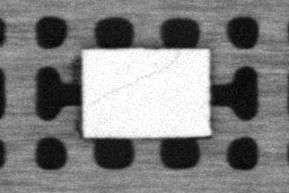DIE_CRACK: (94, 51, 181, 102)
